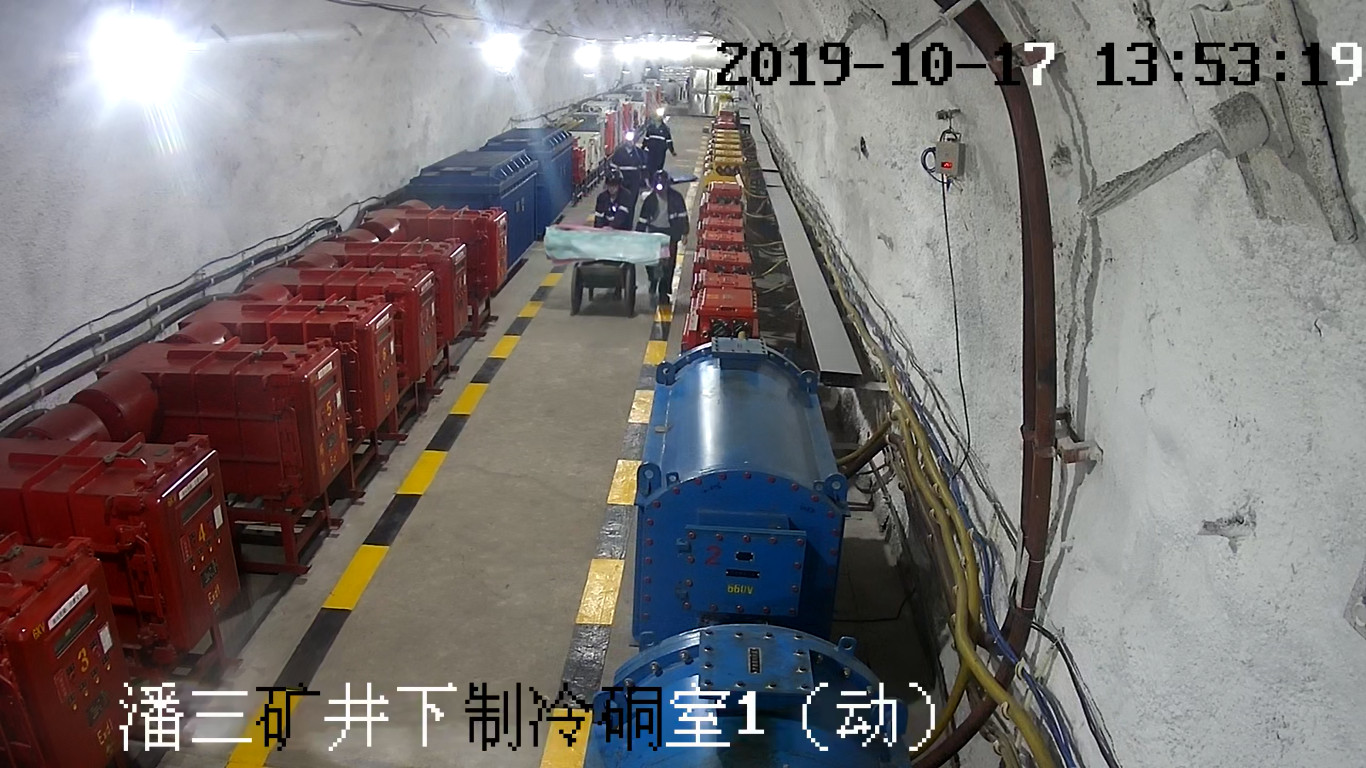helmet: (651, 169, 673, 191), (604, 168, 623, 186), (622, 127, 639, 140), (651, 107, 666, 120)
